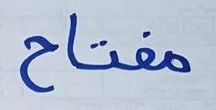dal: (66, 11, 80, 73)
hah: (17, 33, 61, 96)
heh: (158, 47, 193, 76)
qaf: (127, 26, 157, 74)
teh: (82, 38, 123, 73)
